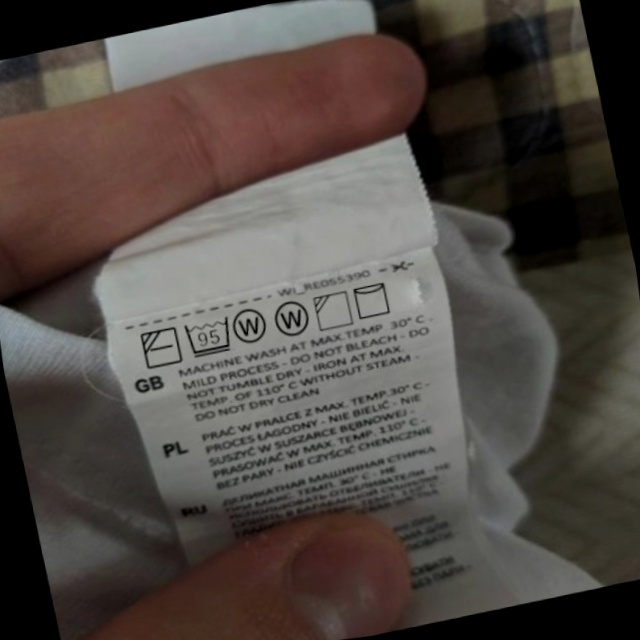95C: (180, 311, 238, 361)
dry_flat_in_shade: (136, 322, 185, 373)
line_dry: (348, 276, 397, 324)
shade_dry: (309, 286, 357, 335)
wet_clean: (269, 295, 315, 343), (228, 300, 273, 349)
